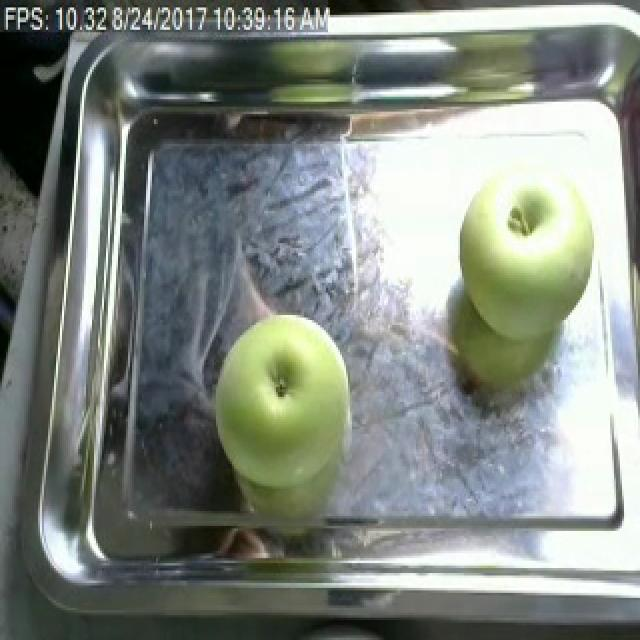50-_ripeness: (215, 312, 356, 489), (457, 163, 593, 335)
